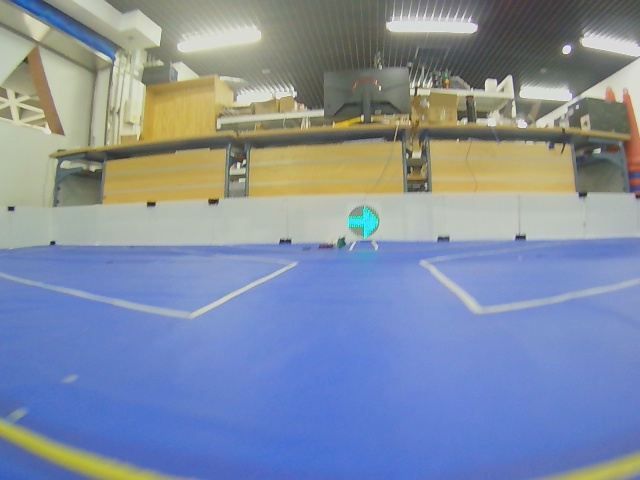right_green: (347, 205, 379, 239)
